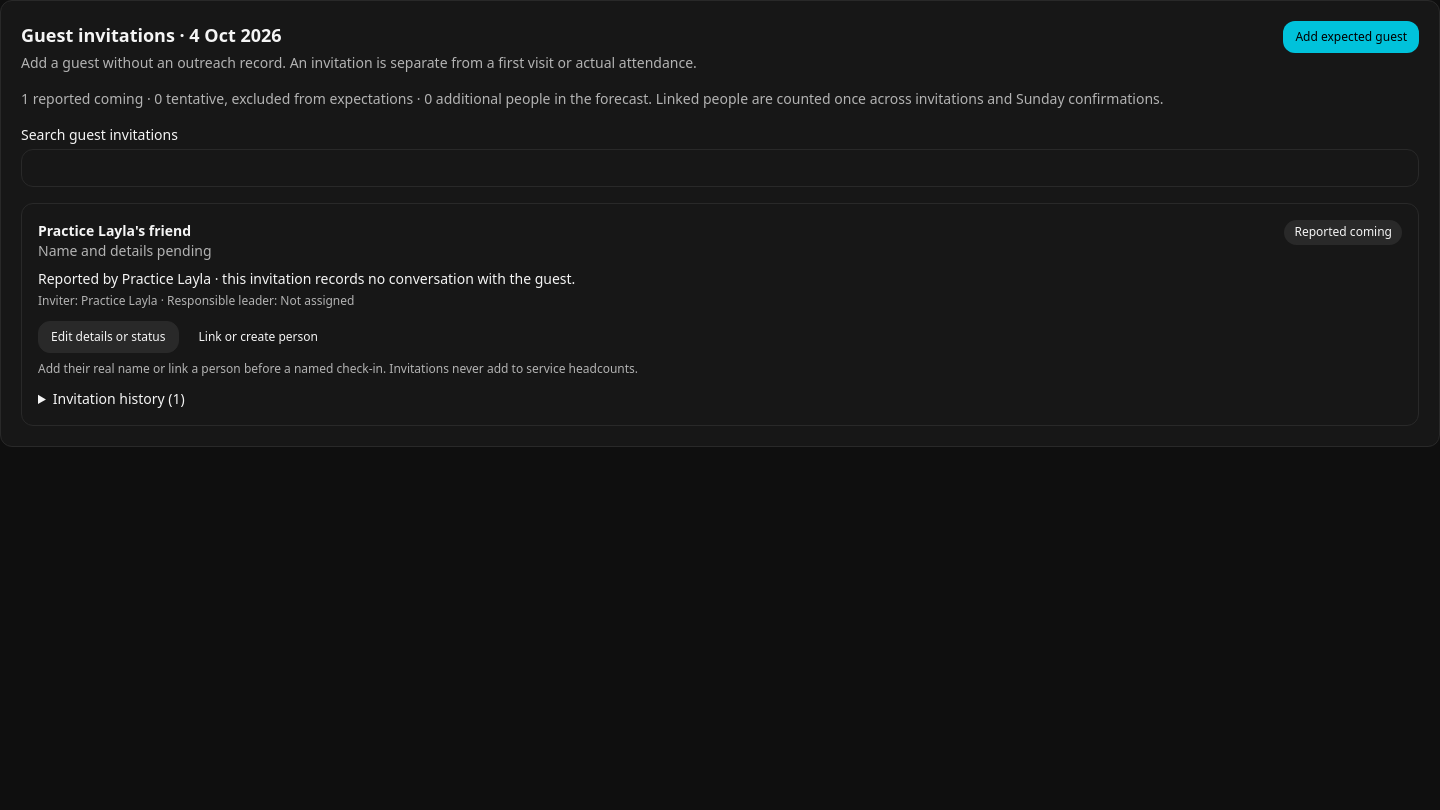
it: expected guest invitations › links an existing person using the reviewed invitation version and retains a failed request for retry
Click the button "Link or create person" at (258, 337), box [186,321,330,353]
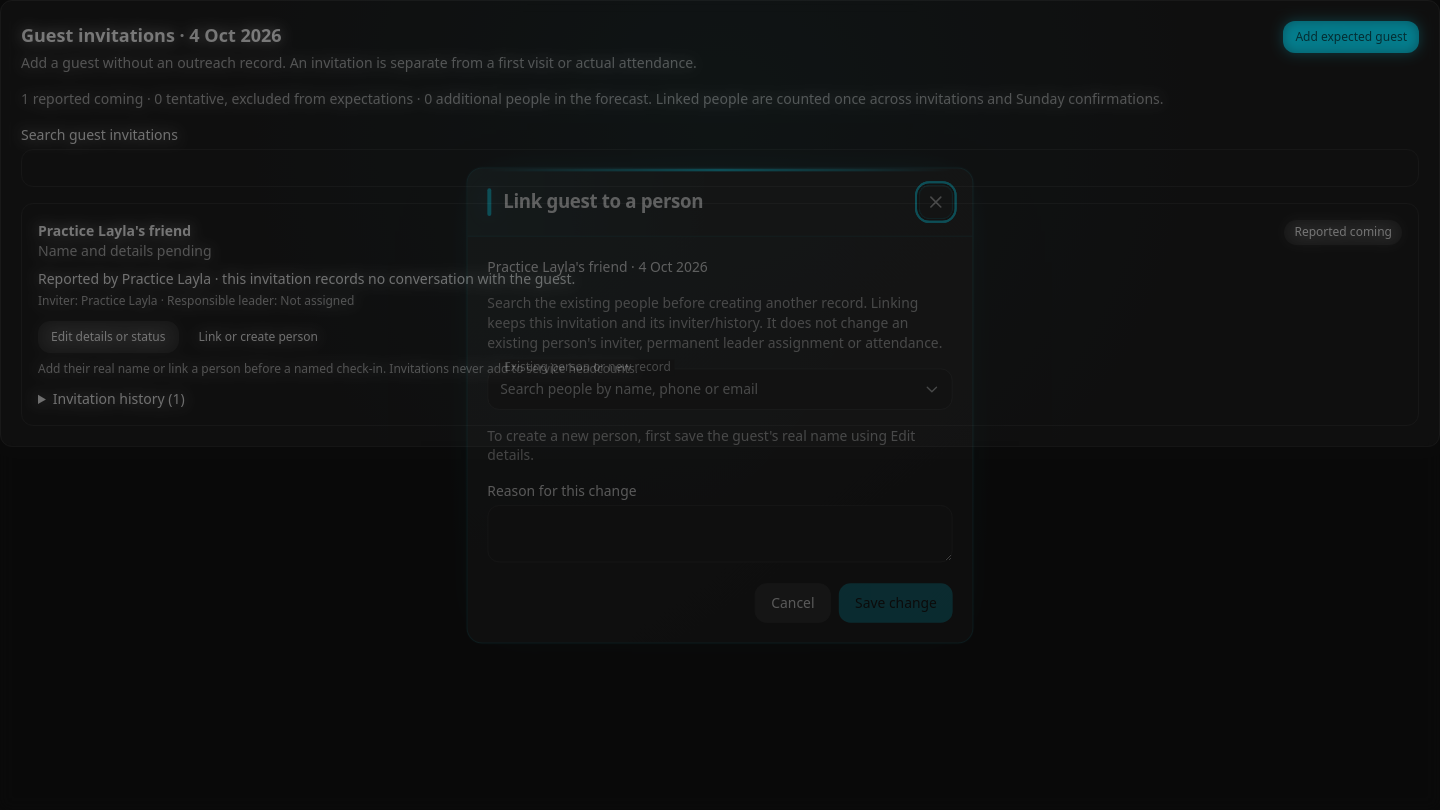
Check: the button "Existing person or new record" is shown
Click the button "Existing person or new record" at (720, 388), box [485,368,955,410]
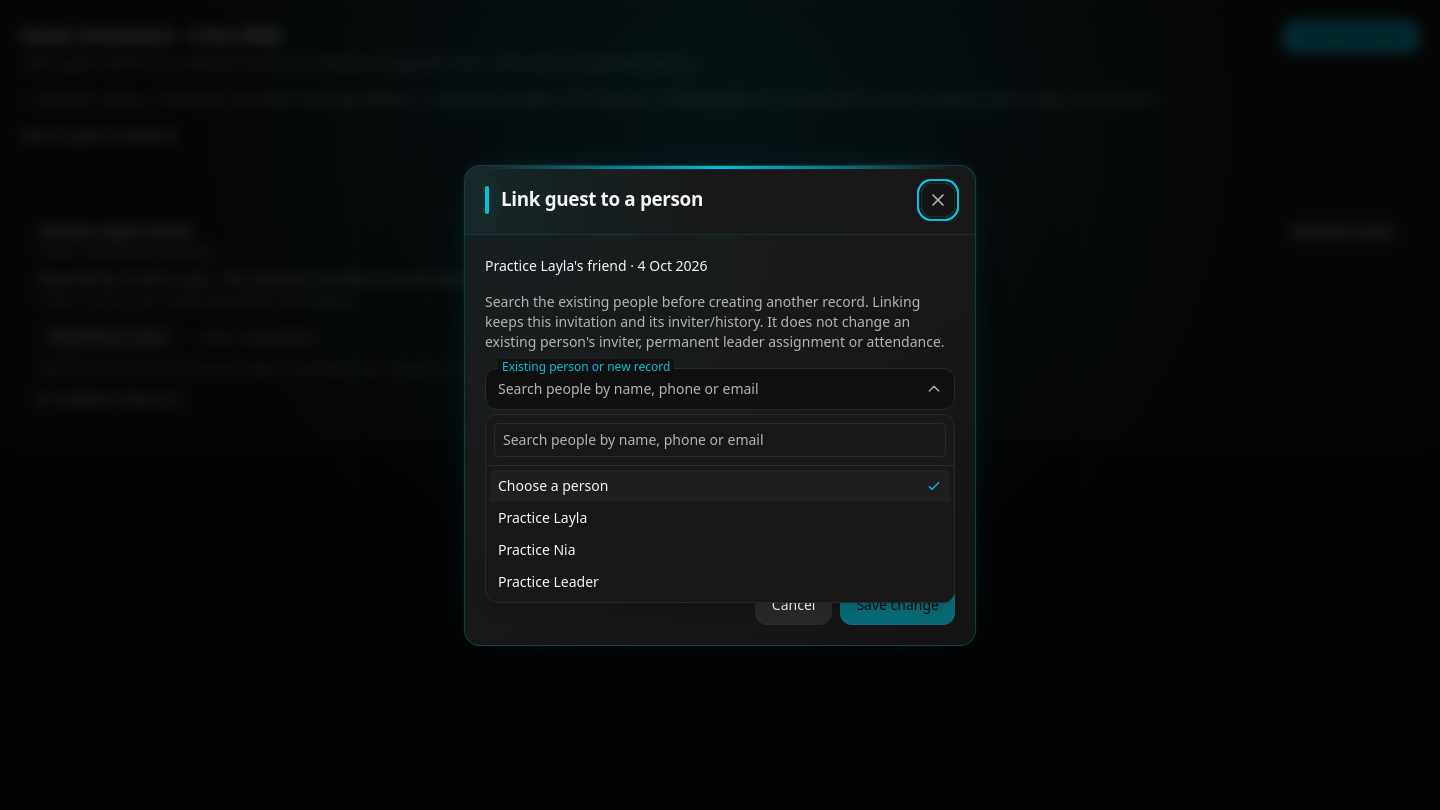
Type "Nia" into the field with placeholder "Search people by name, phone or email" at (720, 440), box [494,422,946,456]
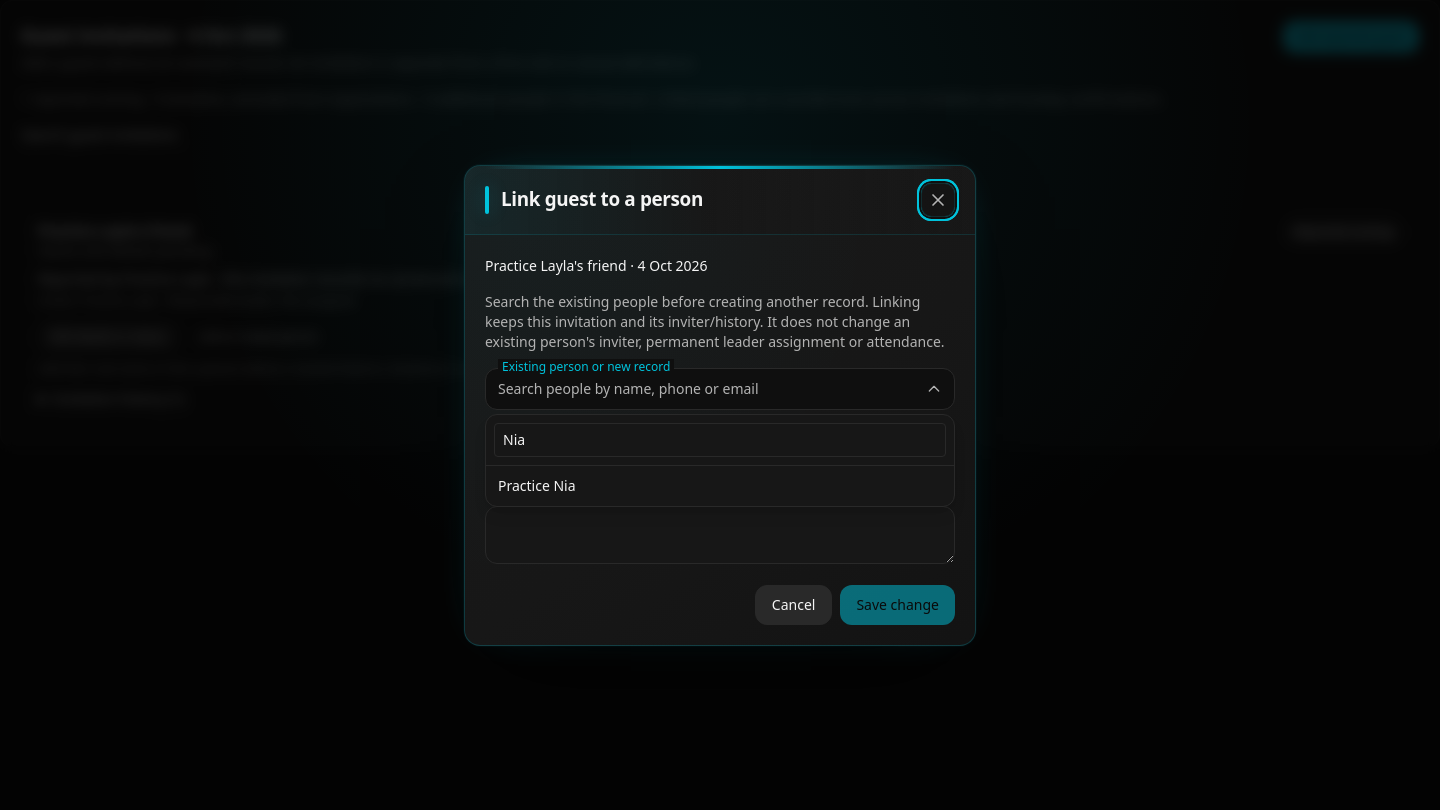
Click the button "Practice Nia" at (537, 485), box [490,470,950,502]
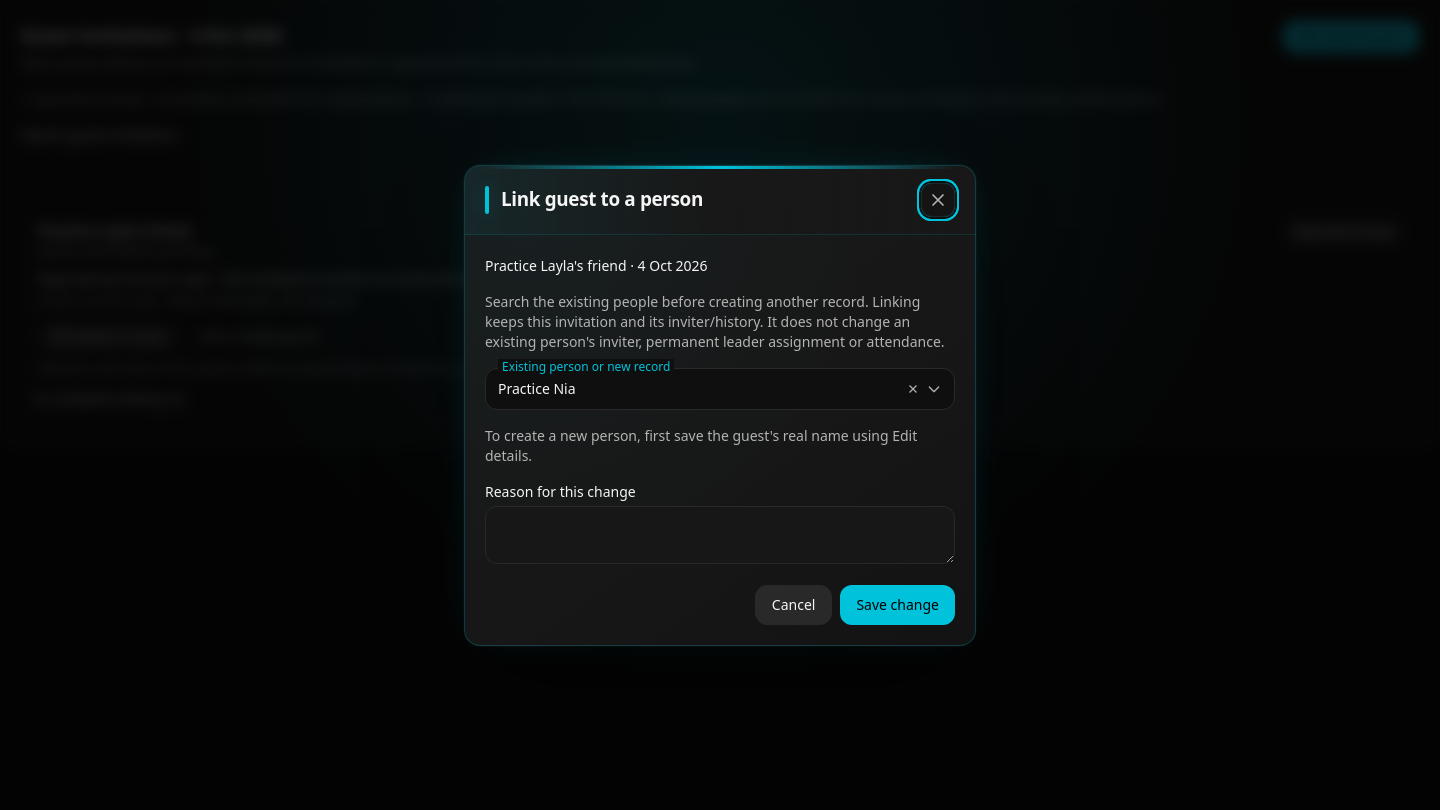
Type "Owner identified the existing guest" into the text box labelled "Reason for this change" at (720, 534), box [485,506,955,564]
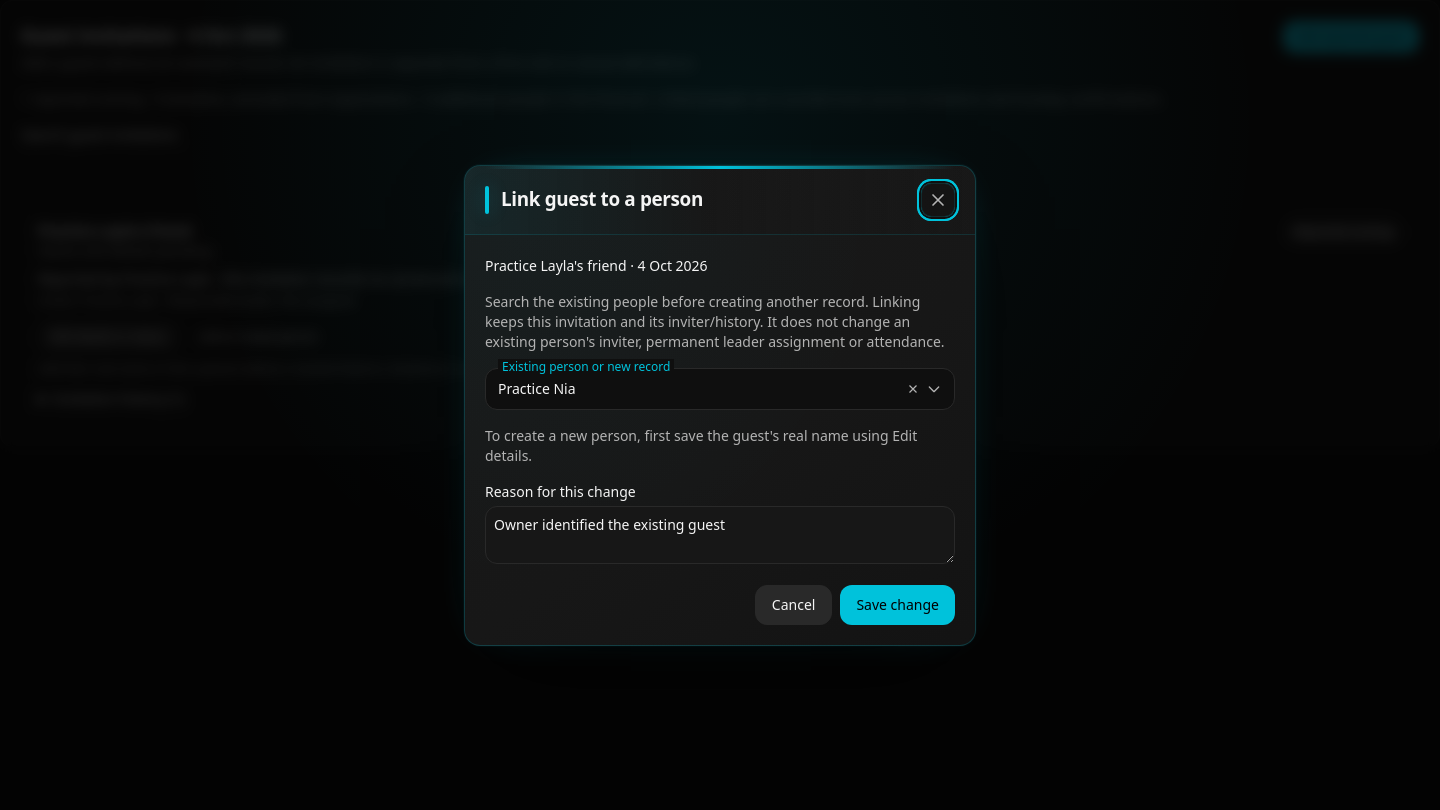
Click the button "Save change" at (898, 604), box [840,584,955,624]
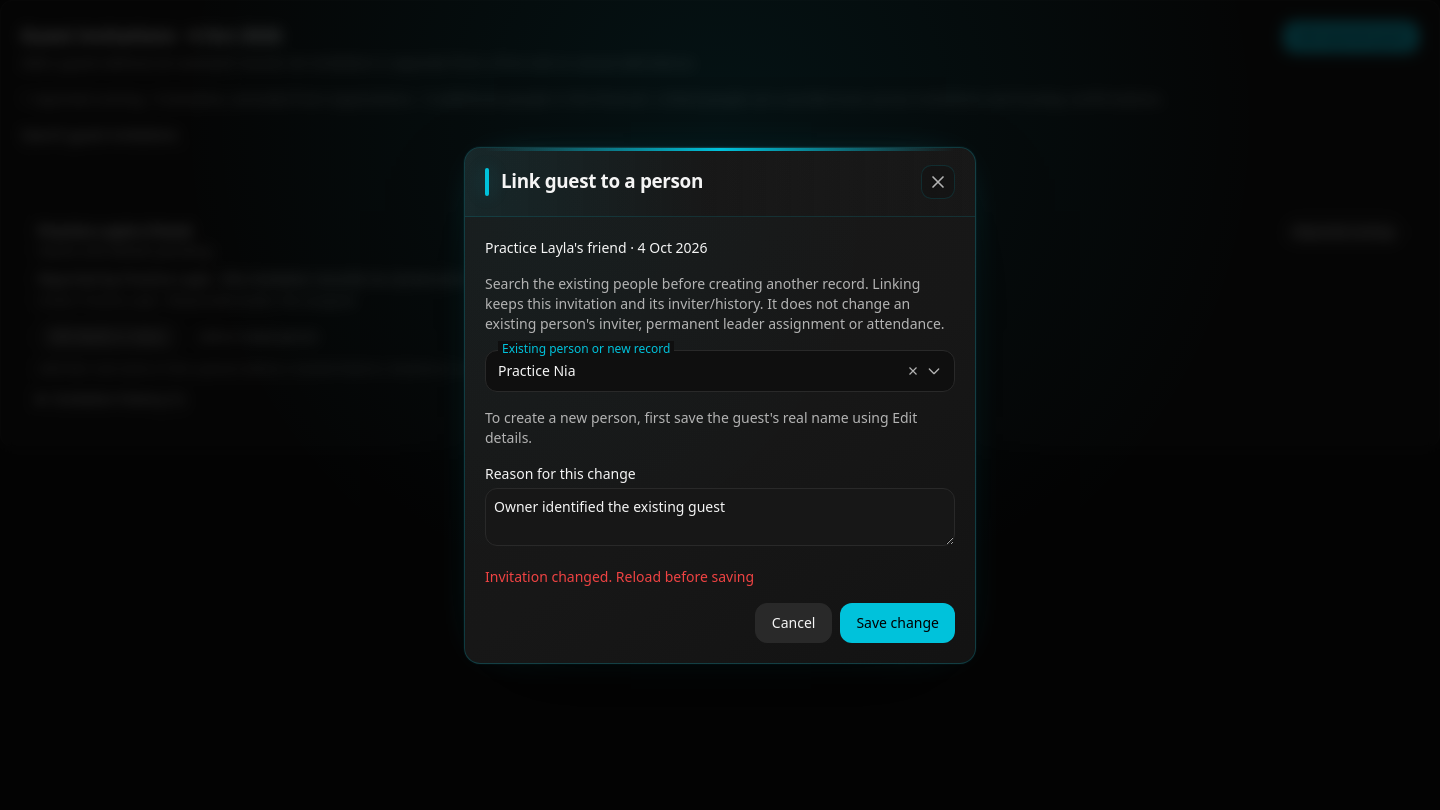
Check: the message shows "Invitation changed", box [485,566,754,586]
